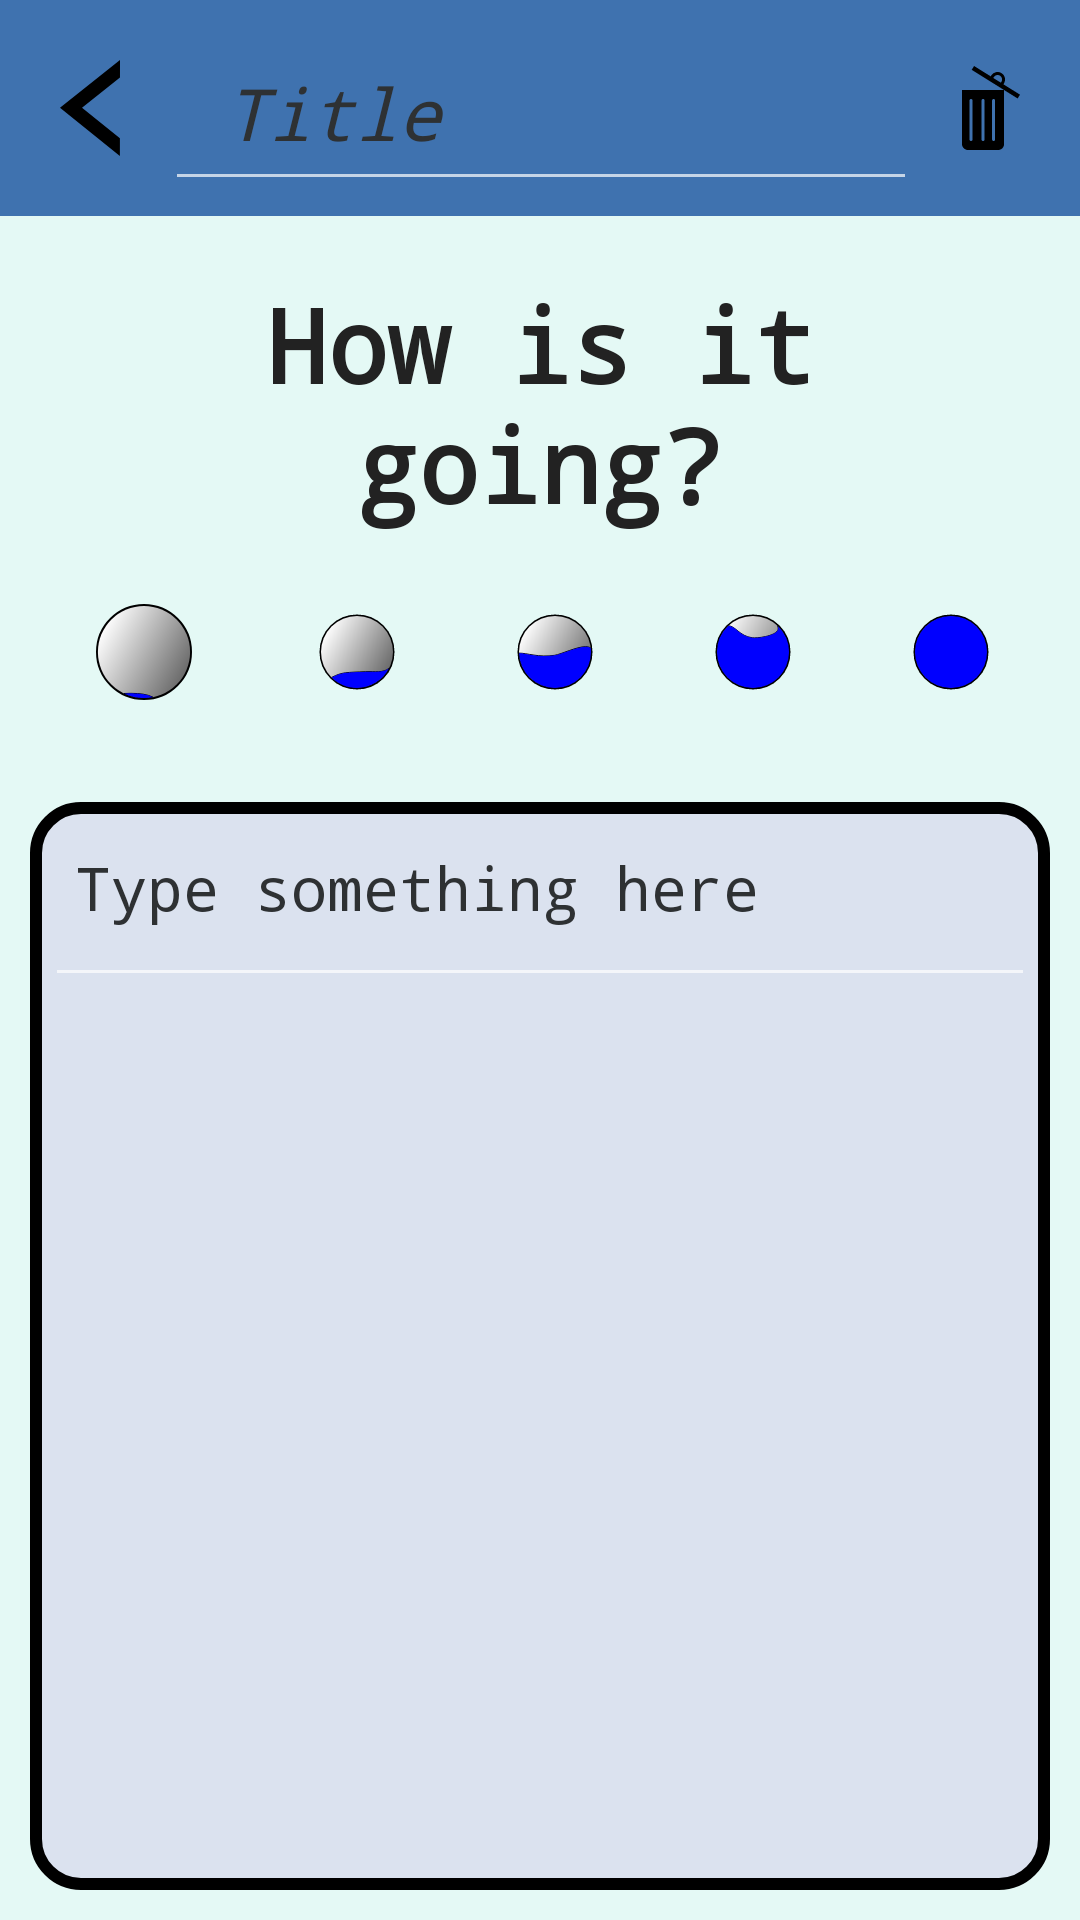

Icons on this 1080px x 1920px Android screen, each with its box as [left=x1, top=y1, right=x2, bottom=y2]:
Delete this note: [left=962, top=66, right=1020, bottom=150]
Indicating fulfill-ness of 1: [left=96, top=604, right=192, bottom=700]
Indicating fulfill-ness of 2: [left=319, top=614, right=395, bottom=690]
Indicating fulfill-ness of 3: [left=517, top=614, right=593, bottom=690]
Indicating fulfill-ness of 4: [left=715, top=614, right=791, bottom=690]
Return to home: [left=60, top=60, right=120, bottom=156]
